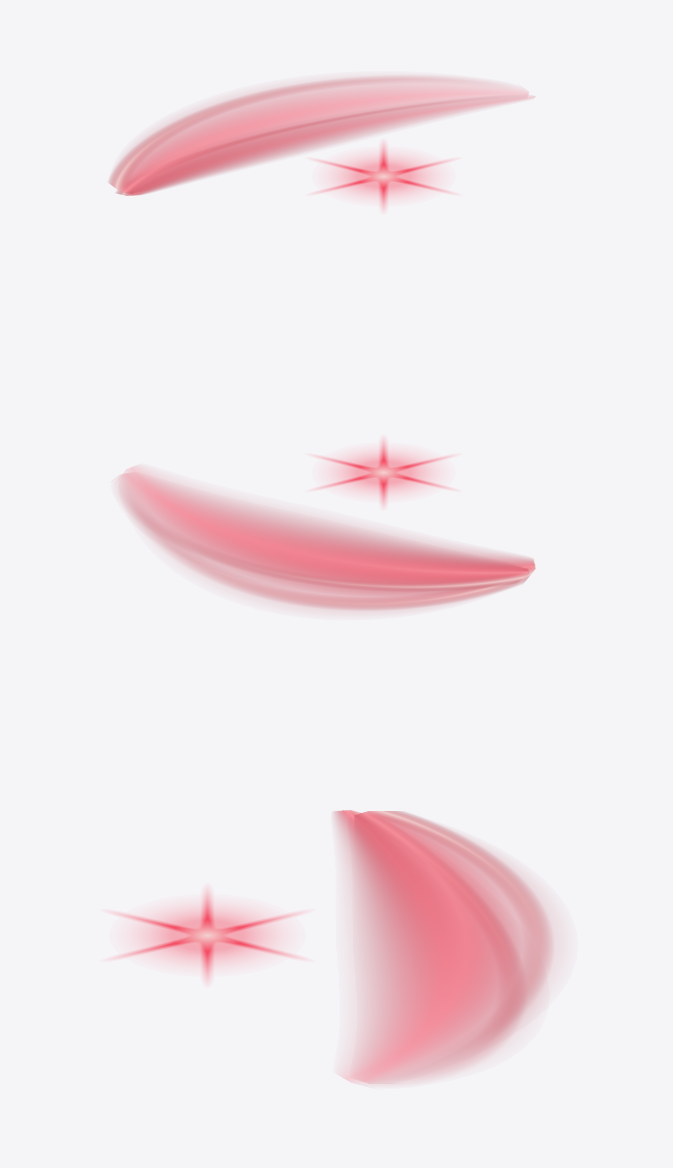
File: fx_slash_t2.glb
3 renders of one model, top to bottom at view 1: azimuth 30°, elevation 25°; view 2: azimuth 150°, elevation 25°; view 3: azimuth 270°, elevation 25°, orthographic. The views are drawn at different scales.
Parts seen in each view (by area): view 1: fx_slash, fx_slash_core; view 2: fx_slash, fx_slash_core; view 3: fx_slash, fx_slash_core.
Boxes of the visible parts, box(x1,y1,x2,y2) form: fx_slash: box(108, 76, 534, 195); fx_slash_core: box(316, 143, 451, 209); fx_slash: box(116, 466, 535, 610); fx_slash_core: box(315, 439, 452, 505); fx_slash: box(334, 810, 554, 1086); fx_slash_core: box(113, 889, 301, 981).
Size of the model in its own units: 1 by 0.27 by 1.
2 materials, 2 textured.
